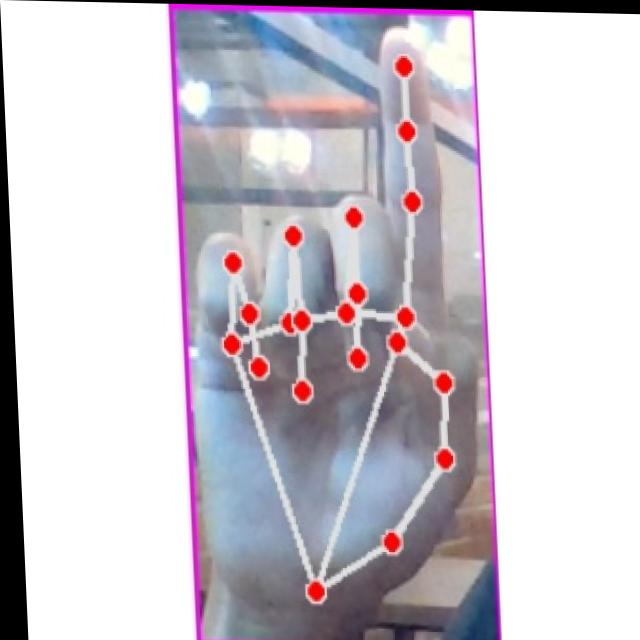D: (183, 17, 485, 629)
